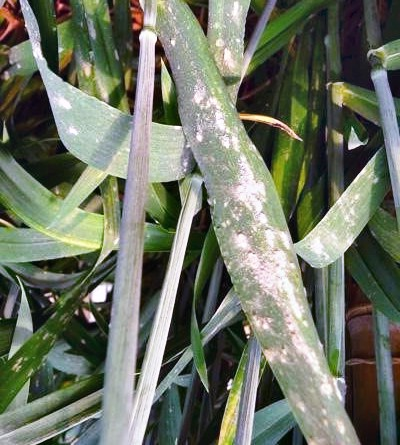Powdery Mildew: (181, 84, 325, 371)
